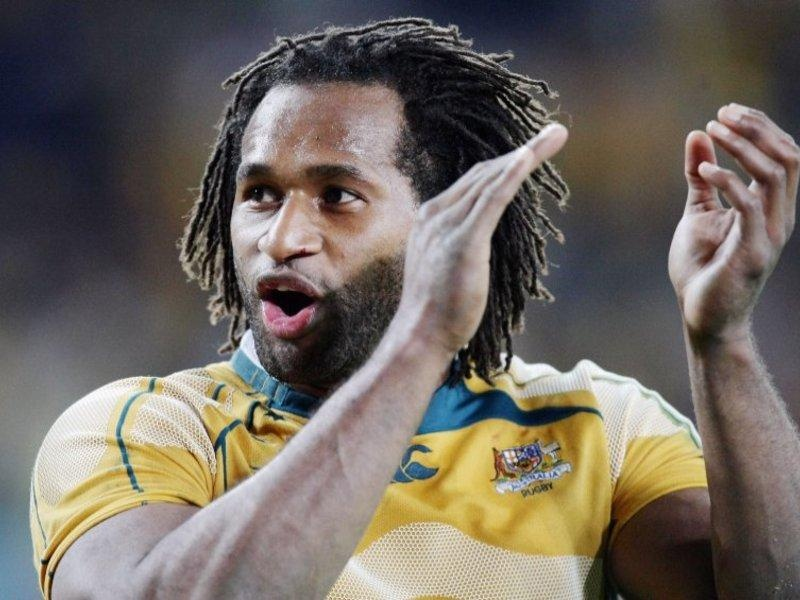person without safety: (25, 25, 663, 600)
